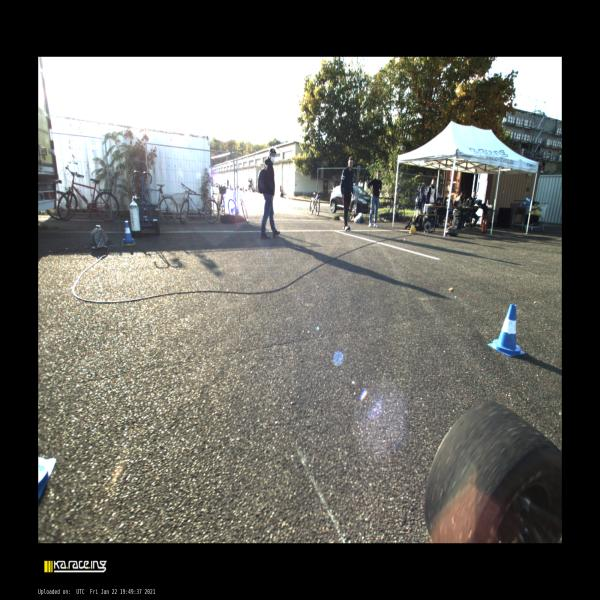blue_cone: (488, 304, 525, 357), (124, 221, 134, 242), (525, 195, 528, 204), (528, 196, 530, 205)
yellow_cone: (410, 219, 415, 232)
